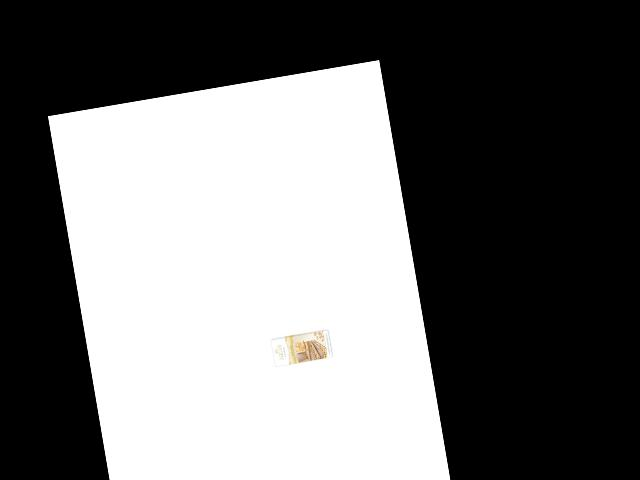chocolate: (265, 317, 336, 373)
